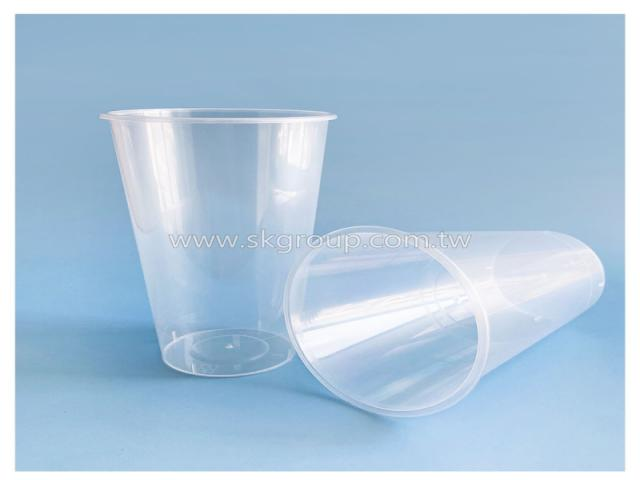cup: (100, 109, 336, 377), (284, 226, 605, 416)
